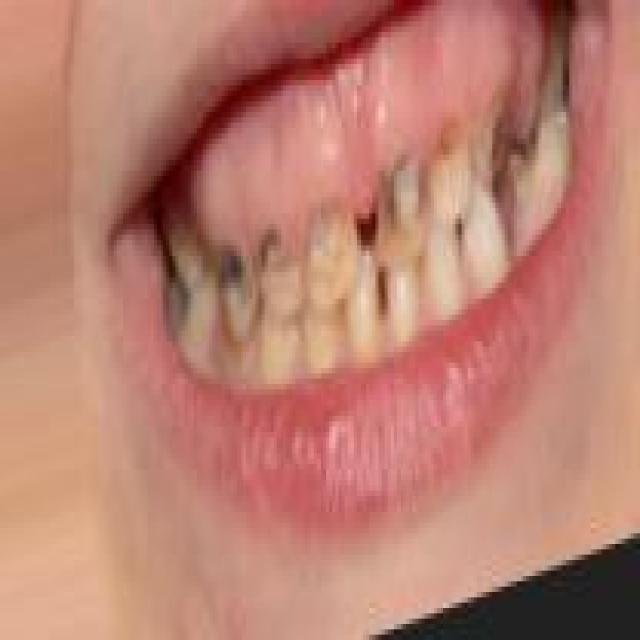caries: (367, 146, 430, 282), (300, 202, 364, 327), (252, 222, 312, 336), (419, 109, 471, 235), (215, 235, 261, 342)
